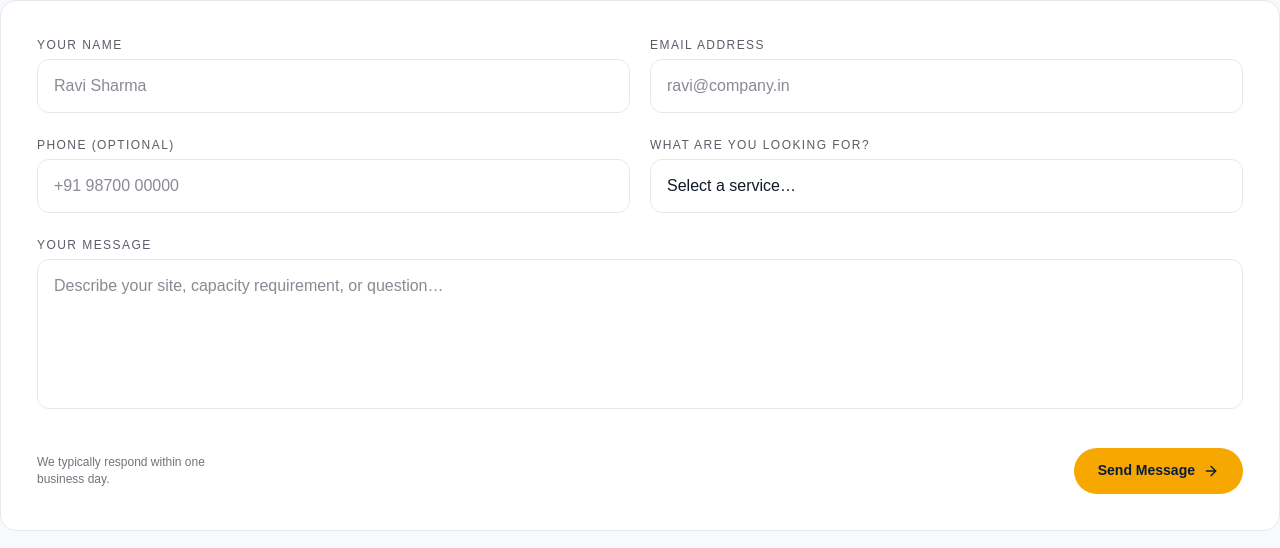
Test case: public forms (contact, estimate) › contact: a failed submit marks the invalid fields, ties each error to its input, and focuses the first one
Click the button "Send Message".
click(1158, 471)  # box [1074, 448, 1243, 494]
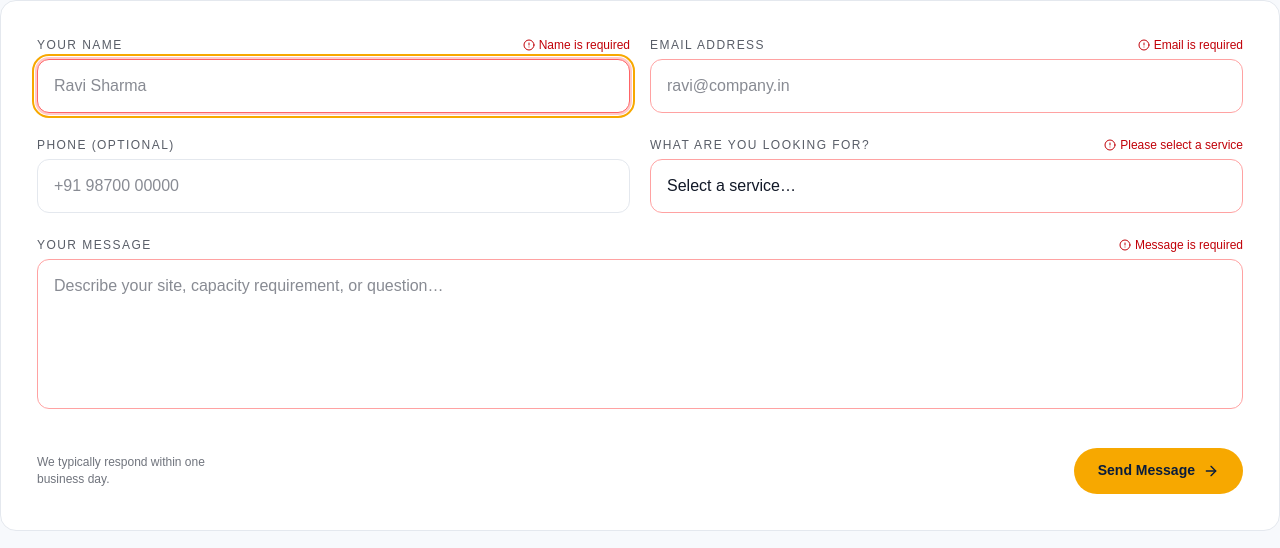
Now the message "Name is required" is shown, box [523, 37, 630, 53]
